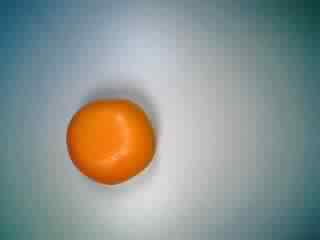orange: (65, 94, 156, 187)
